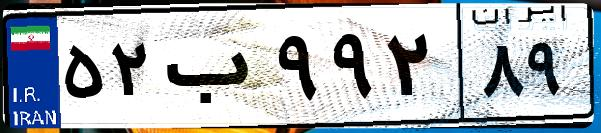2: (385, 28, 445, 110), (110, 28, 158, 98)
5: (57, 26, 110, 100)
8: (475, 38, 525, 113)
9: (270, 28, 330, 110), (330, 28, 385, 110), (525, 38, 570, 115)
ب: (158, 20, 270, 120)
